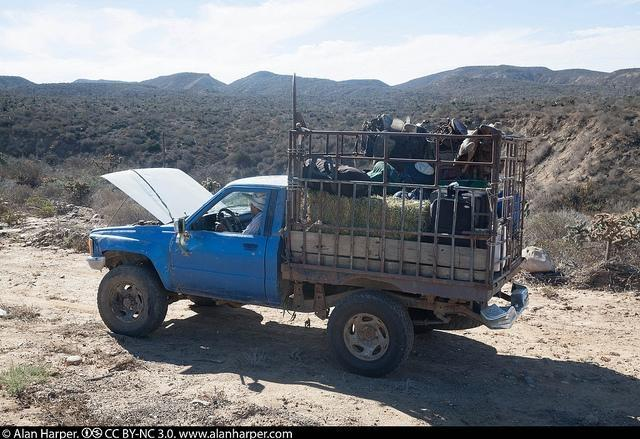truck: (86, 126, 534, 377)
